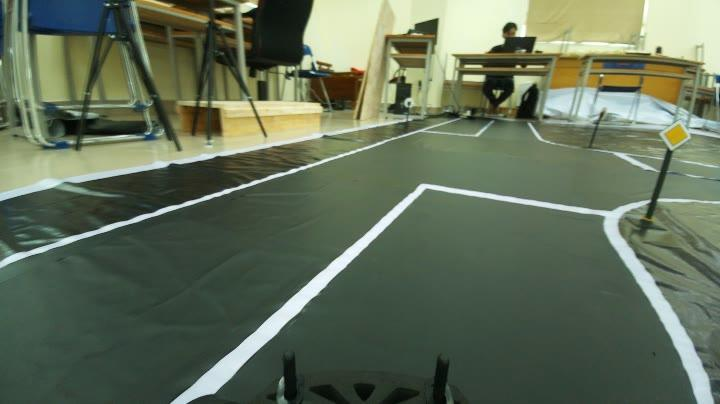priority: (654, 112, 696, 155)
